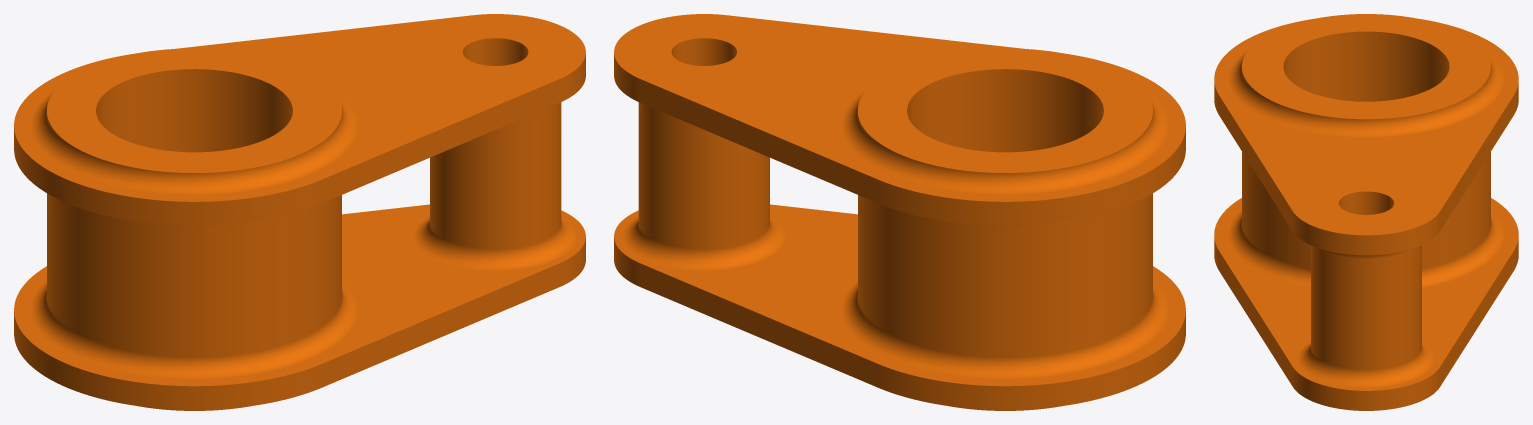
3 renders of one model, left to right at view 1: azimuth 30°, elevation 25°; view 2: azimuth 150°, elevation 25°; view 3: azimuth 270°, elevation 25°, orthographic. The views are drawn at different scales.
Parts seen in each view (by area): view 1: 圆角1; view 2: 圆角1; view 3: 圆角1.
Part boxes in pixels (x1,y1,x2,y2): 圆角1: [14, 14, 585, 410]; 圆角1: [614, 14, 1185, 410]; 圆角1: [1214, 14, 1518, 410].
Bounding box in the file's own units: 7.42 × 3.15 × 4.33.
